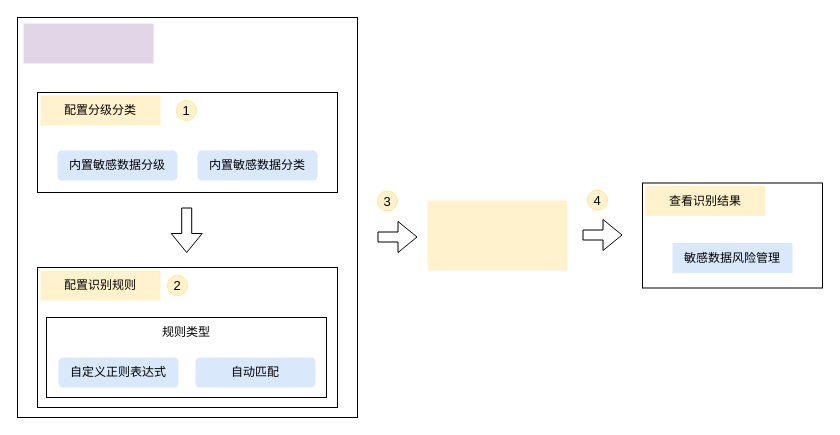
Image size: 840x435. Some labels were removed from this diagram. The centre of each missing label's shape, as x and y in pixels:
"基于识别规则，创建敏感数据识别任务" goes at [497,235].
"敏感数据规则" goes at [88,43].
